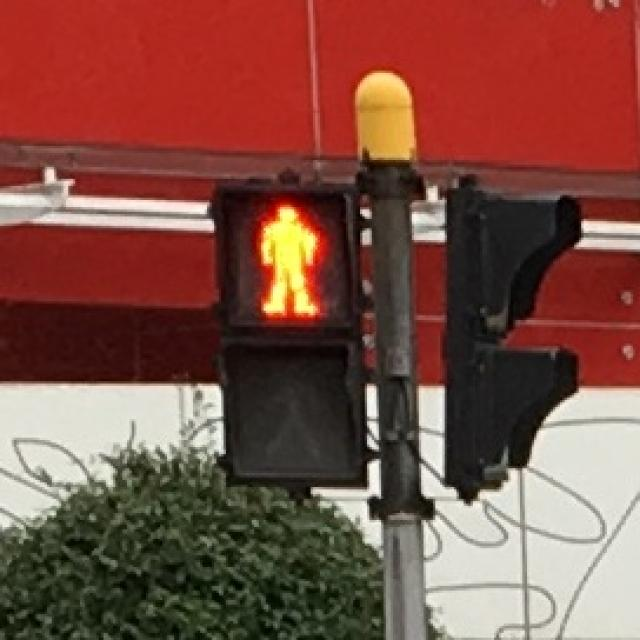red_light: (238, 188, 338, 325)
